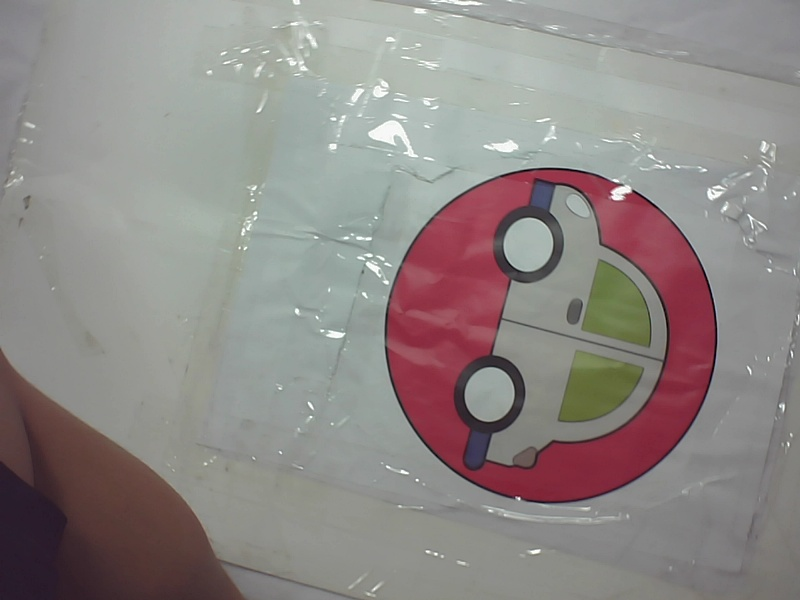areaC: (369, 154, 731, 521)
